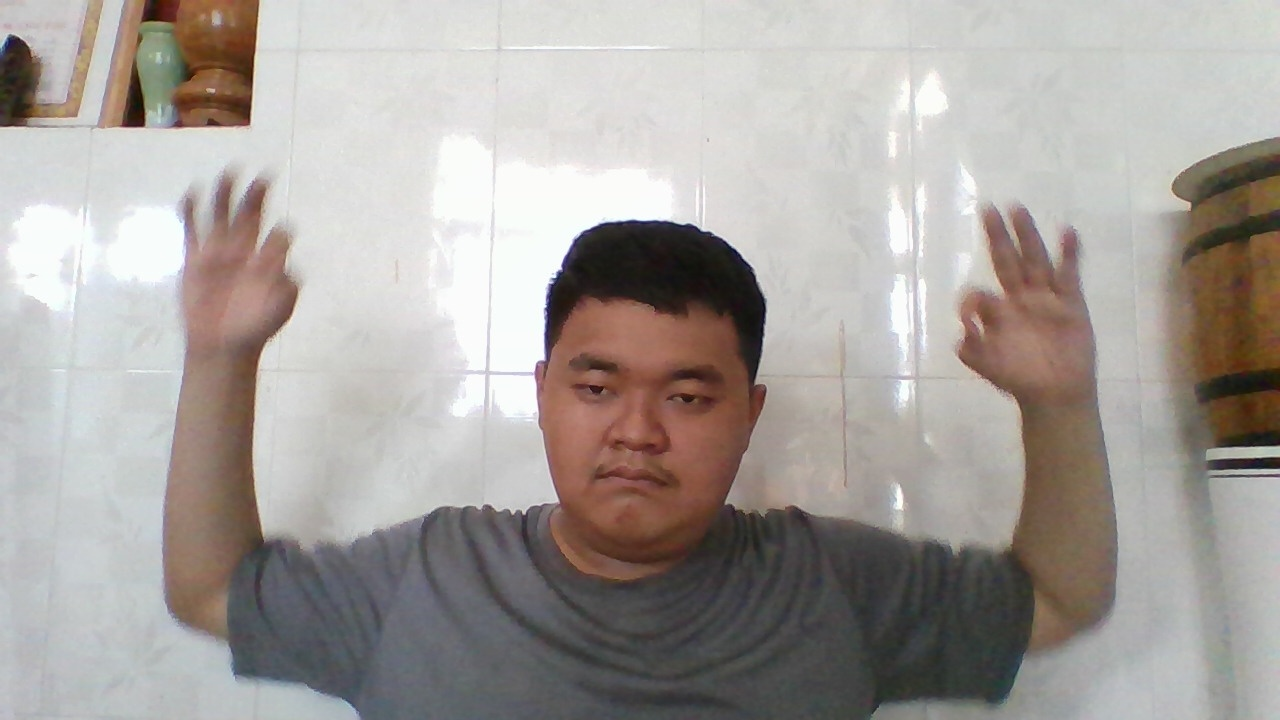T: (946, 197, 1088, 411), (170, 163, 301, 360)
